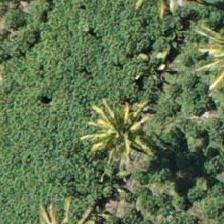coconut_tree: (75, 82, 165, 172)
